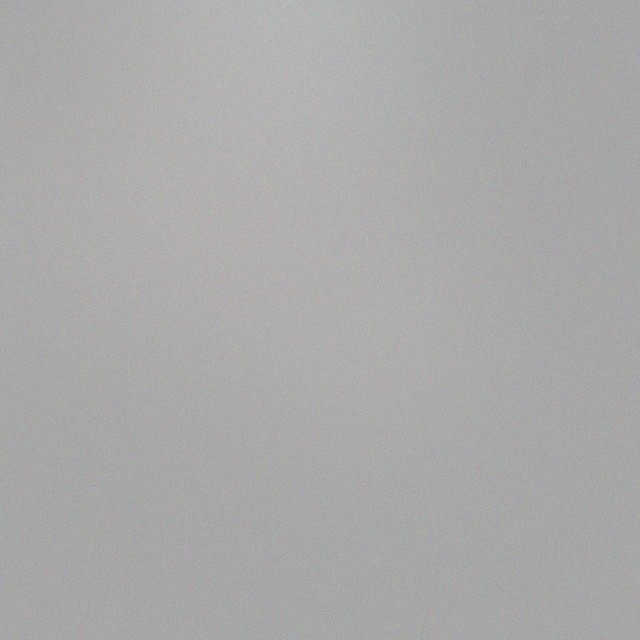smoke: (100, 47, 422, 369)
